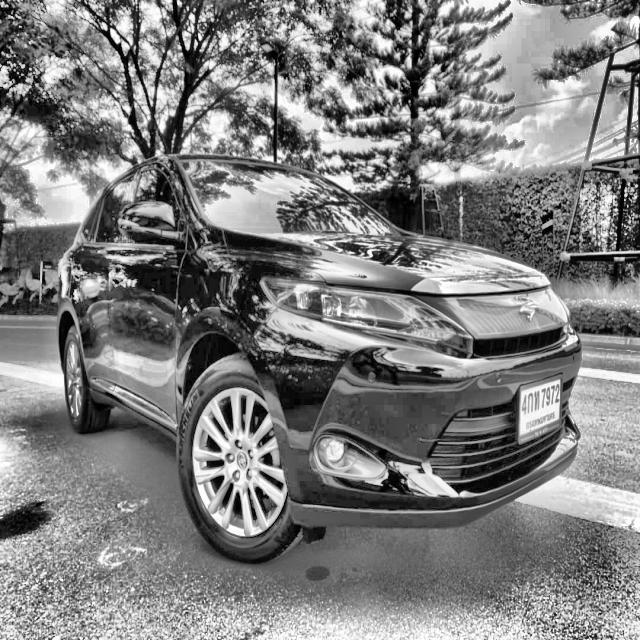license-plate: (514, 371, 565, 444)
